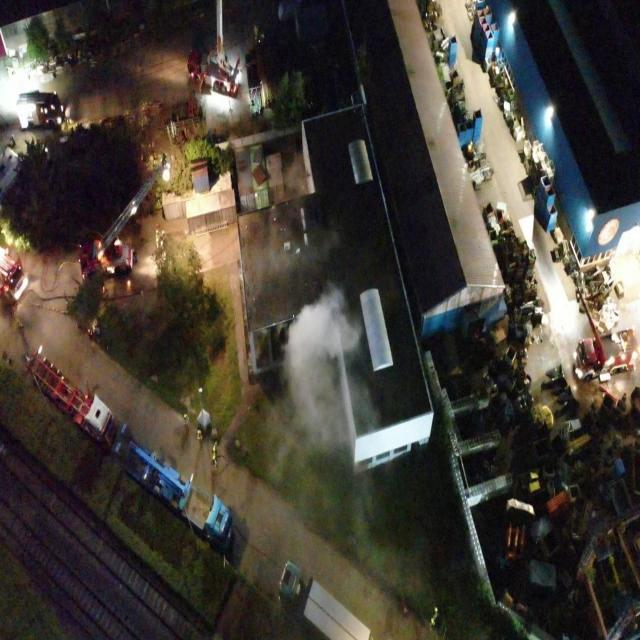Smoke: (260, 286, 376, 484), (250, 218, 342, 282), (282, 154, 310, 198)
